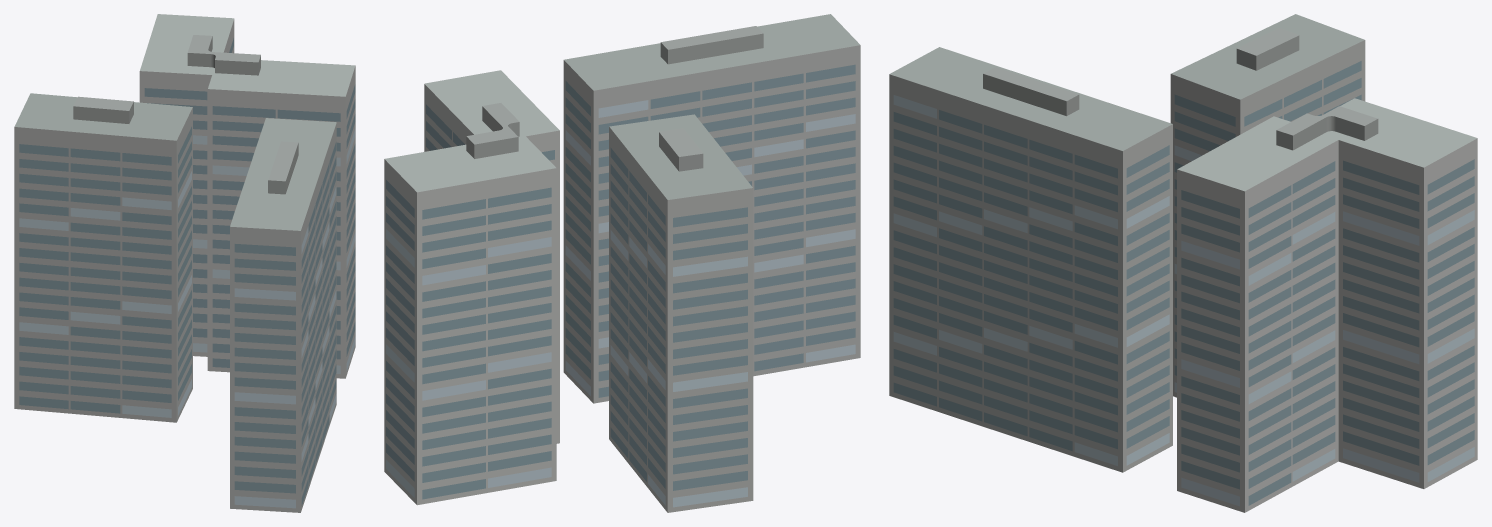
File: apt-a13183405.glb
3 renders of one model, left to right at view 1: azimuth 30°, elevation 25°; view 2: azimuth 150°, elevation 25°; view 3: azimuth 270°, elevation 25°, orthographic. The views are drawn at different scales.
Parts seen in each view (by area): view 1: apt-a13183405; view 2: apt-a13183405; view 3: apt-a13183405.
Part boxes in pixels (left/top/right/bottom): apt-a13183405: left=14, top=14, right=355, bottom=512; apt-a13183405: left=384, top=14, right=860, bottom=512; apt-a13183405: left=889, top=14, right=1477, bottom=512.
Size of the model in its own units: 61.05 by 54 by 85.59.
